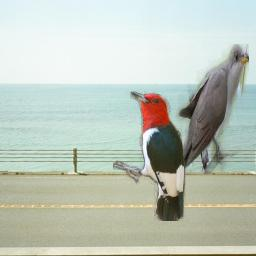Cuckoo: (171, 44, 249, 174)
Woodpecker: (113, 91, 186, 221)
